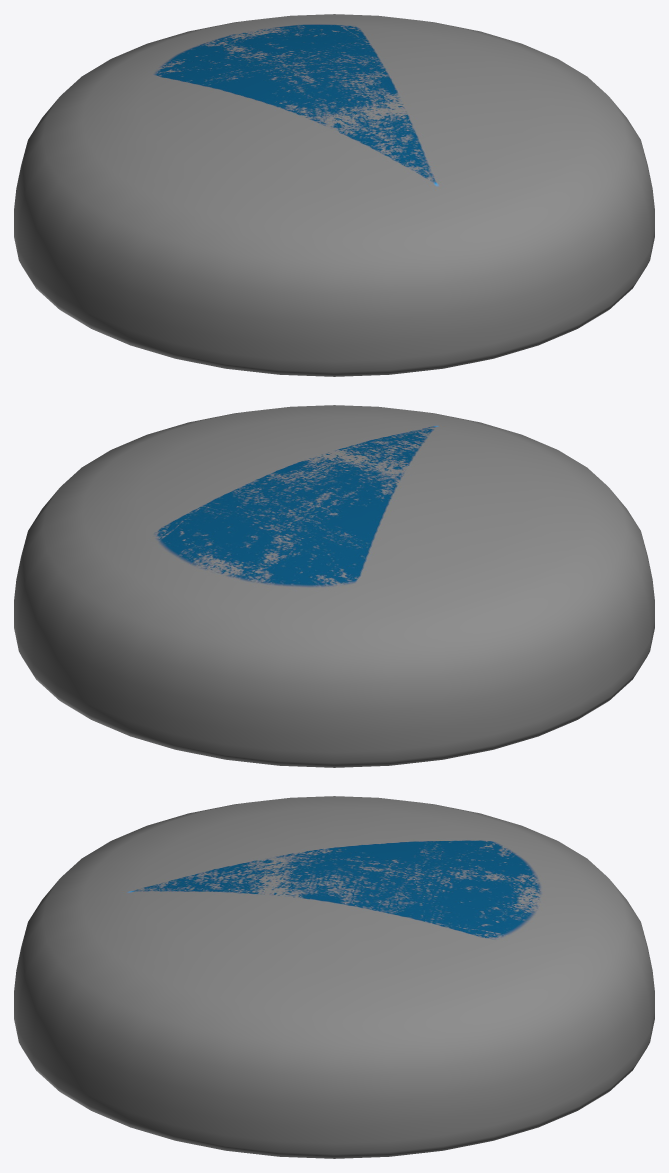
The model's file is water_rune.glb.
3 views of the same model, one above another, from view 1: azimuth 30°, elevation 25°; view 2: azimuth 150°, elevation 25°; view 3: azimuth 270°, elevation 25° (orthographic).
Visible parts, largest first — view 1: Cylinder001; view 2: Cylinder001; view 3: Cylinder001.
Boxes of the visible parts, <box> form: Cylinder001: <box>14,14,654,376</box>; Cylinder001: <box>14,405,654,767</box>; Cylinder001: <box>14,796,654,1158</box>.
Size of the model in its own units: 47.51 by 12.86 by 47.51.
Materials: 1 (1 with a texture image).
